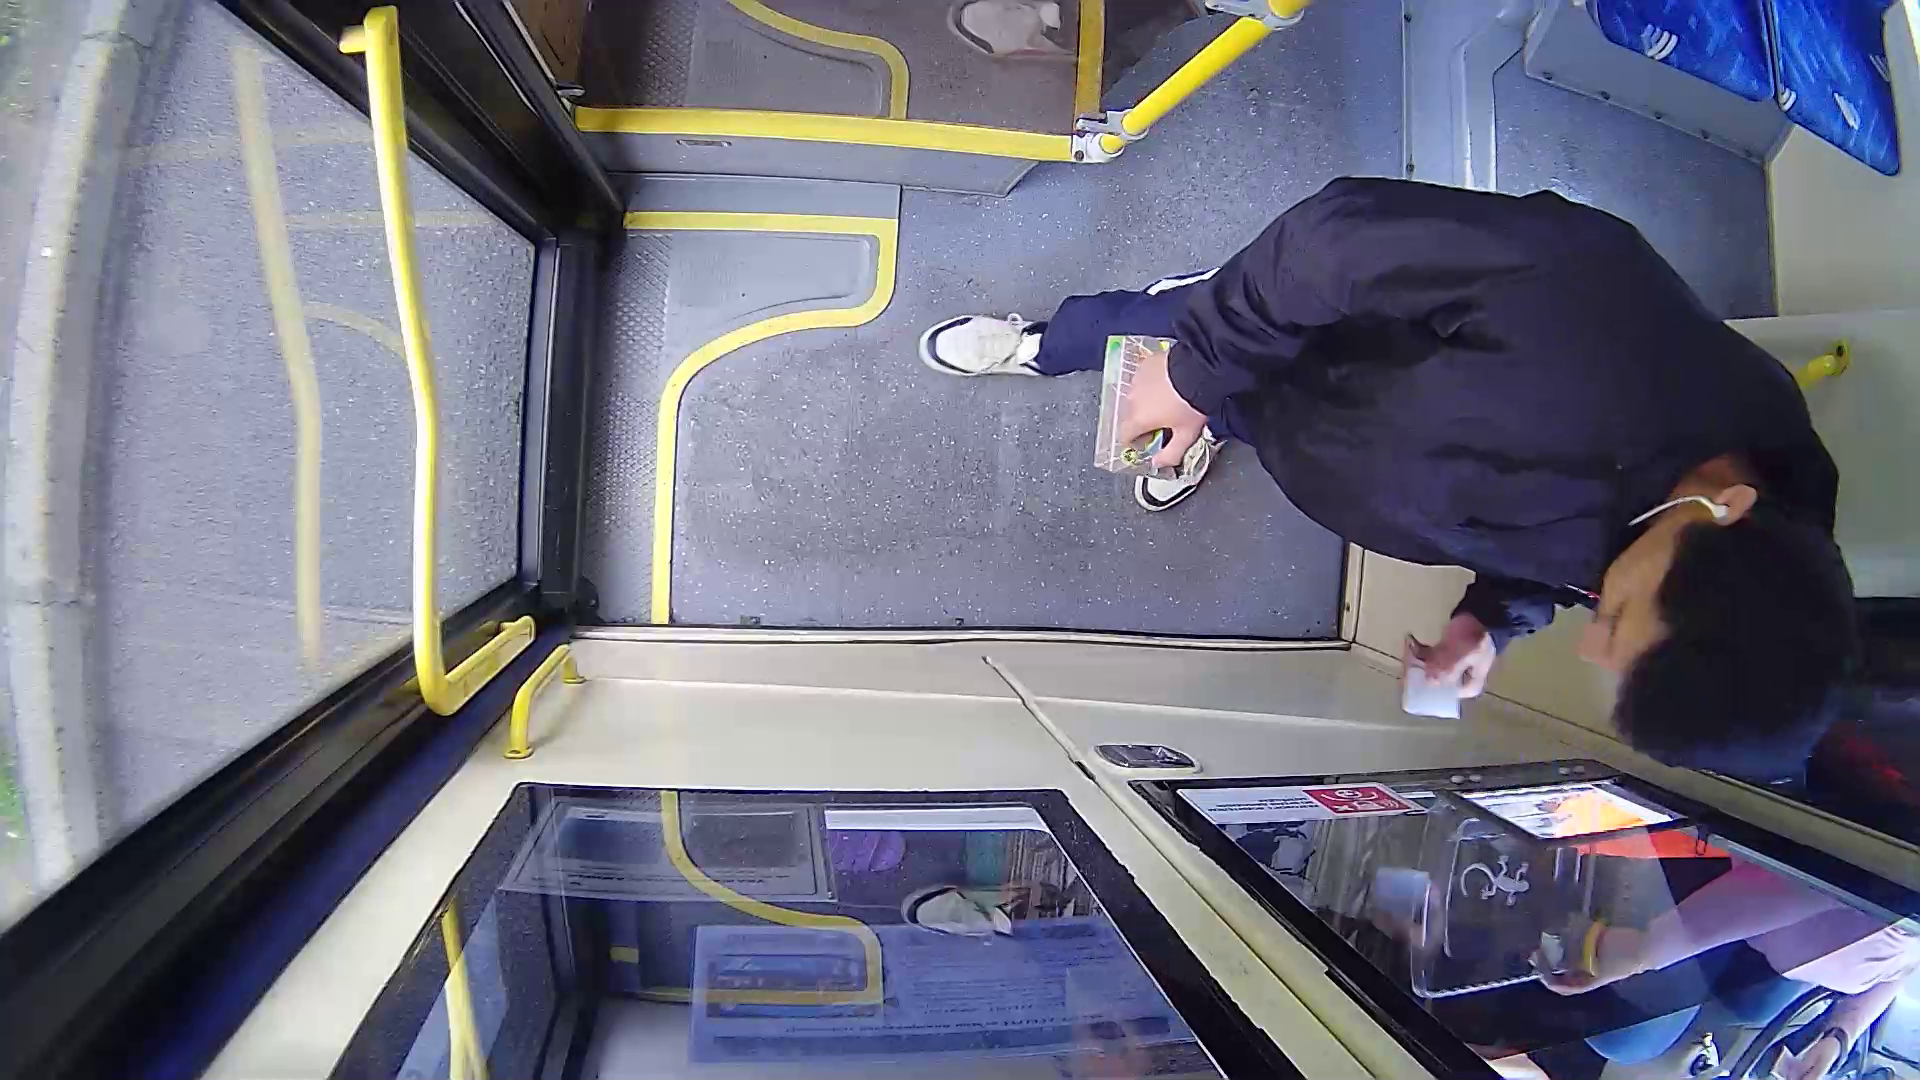person: (924, 92, 1882, 868)
